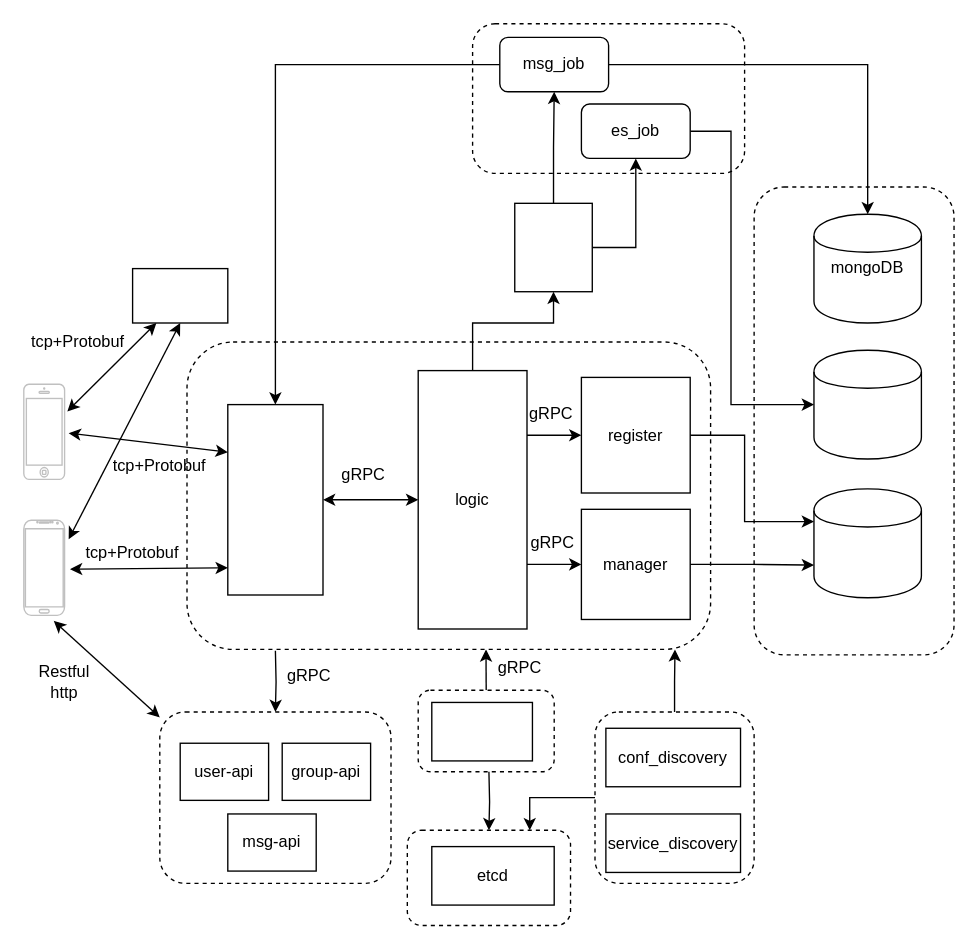
Some shapes in this 978 by 949 pixel diagram are drawn without their labels. Each missing label, with the centre of its shape:
access: [274,499]
ElasticSearch: [867,404]
gateway: [179,295]
idgen: [481,731]
kafka: [552,247]
redis: [867,543]
